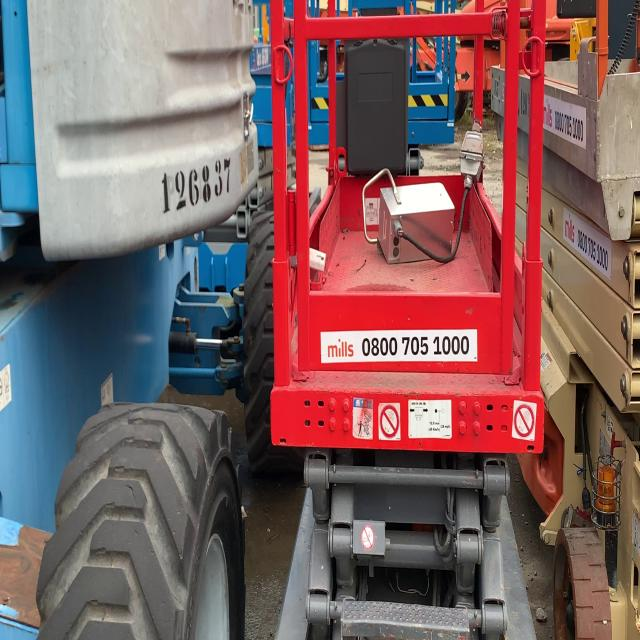Adesivo Longo: (320, 327, 479, 365), (562, 205, 612, 281)
